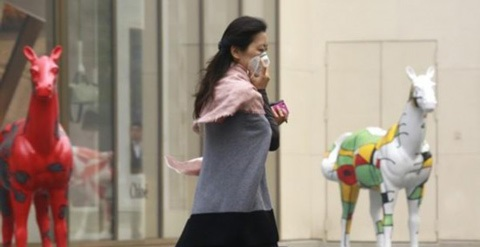face_mask: (246, 33, 270, 75)
